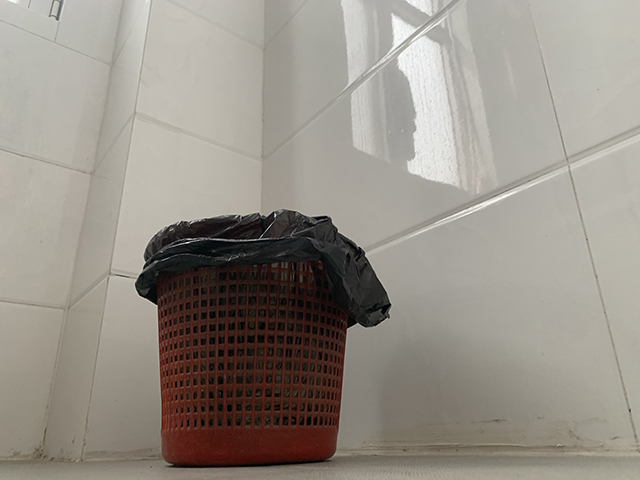trashcan: (133, 208, 392, 467)
